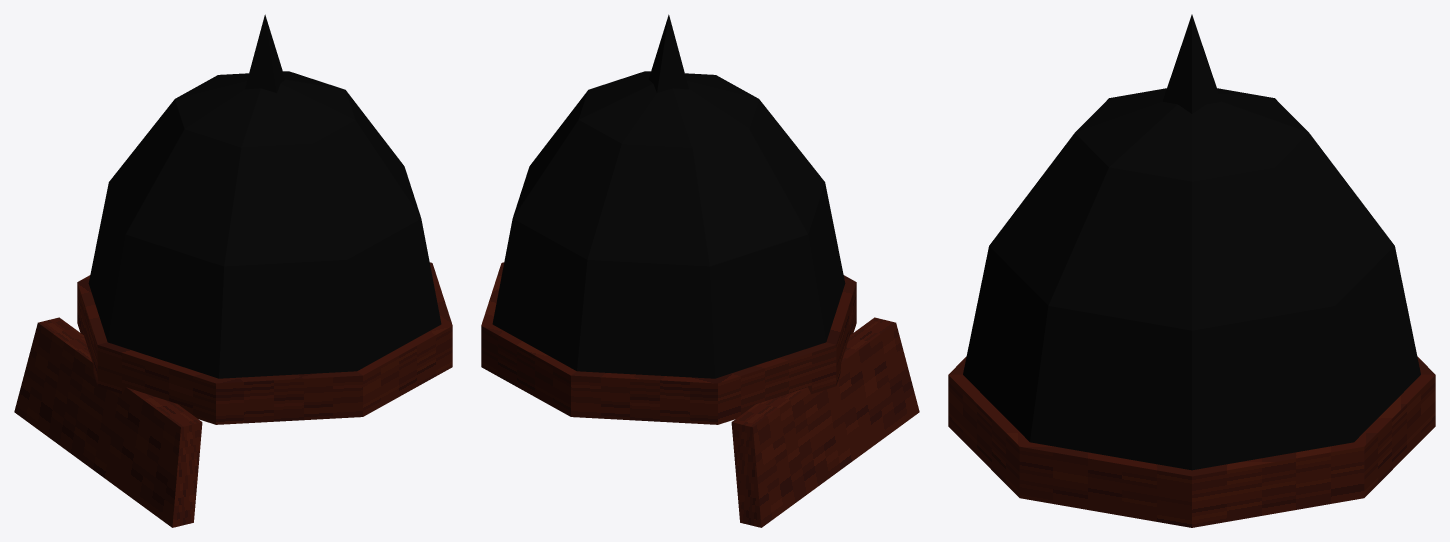
The model's file is culto.glb.
3 views of the same model, side by side, from view 1: azimuth 30°, elevation 25°; view 2: azimuth 150°, elevation 25°; view 3: azimuth 270°, elevation 25° (orthographic). The views are drawn at different scales.
Parts seen in each view (by area): view 1: cupula, cogotera, aro, cimera; view 2: cupula, cogotera, aro, cimera; view 3: cupula, aro, cimera.
Part boxes in pixels (x1=…): cupula: x1=88, y1=71, x2=441, y2=378; cogotera: x1=14, y1=317, x2=202, y2=527; aro: x1=77, y1=262, x2=452, y2=424; cimera: x1=245, y1=14, x2=285, y2=92; cupula: x1=492, y1=71, x2=845, y2=378; cogotera: x1=731, y1=317, x2=919, y2=527; aro: x1=481, y1=262, x2=856, y2=424; cimera: x1=648, y1=14, x2=688, y2=92; cupula: x1=963, y1=88, x2=1420, y2=470; aro: x1=948, y1=356, x2=1435, y2=527; cimera: x1=1162, y1=14, x2=1221, y2=113.
Bounding box in the file's own units: 0.3 × 0.35 × 0.3.
1 material, 1 textured.
